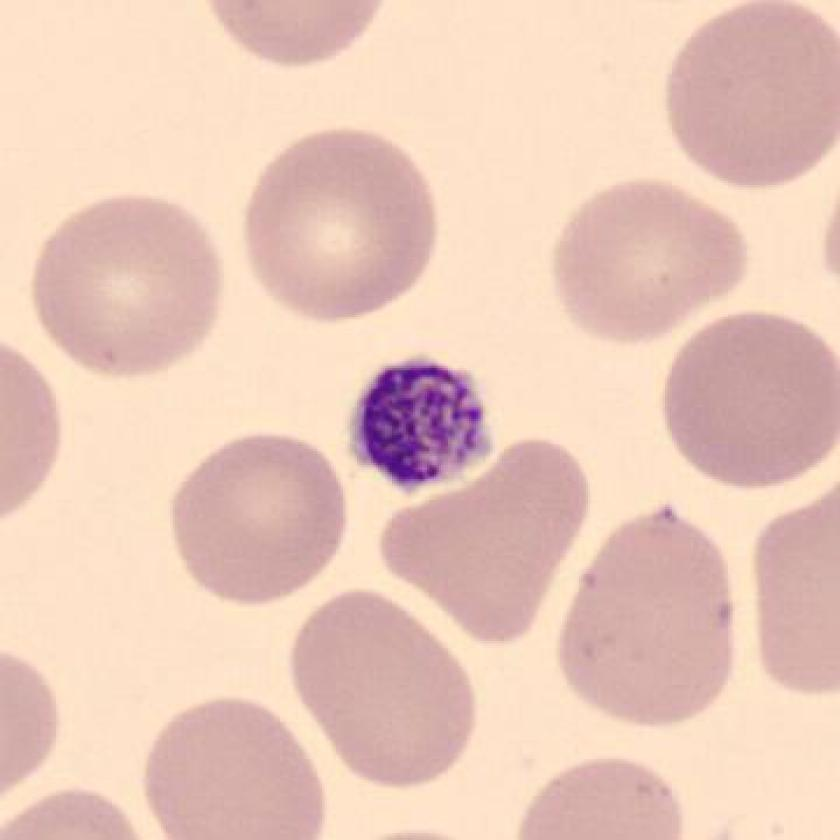platelets: (344, 344, 500, 506)
